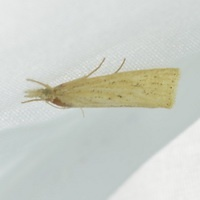insect: (22, 58, 179, 107)
